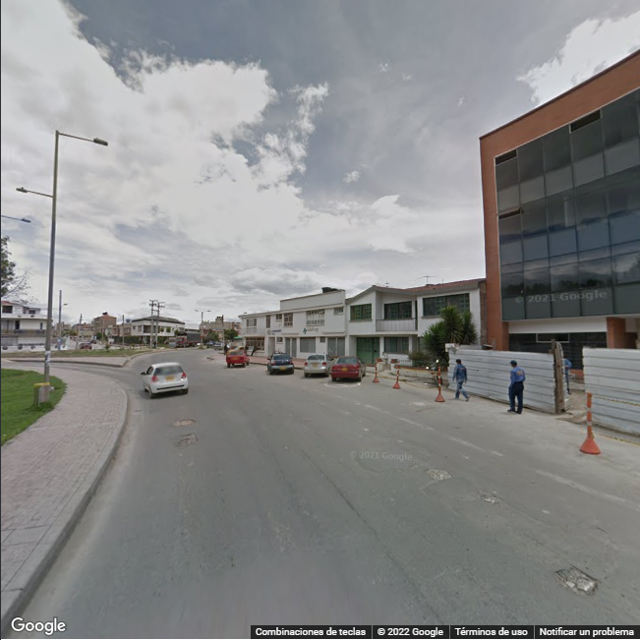D00: (452, 559, 526, 621)
D40: (556, 555, 600, 601)
